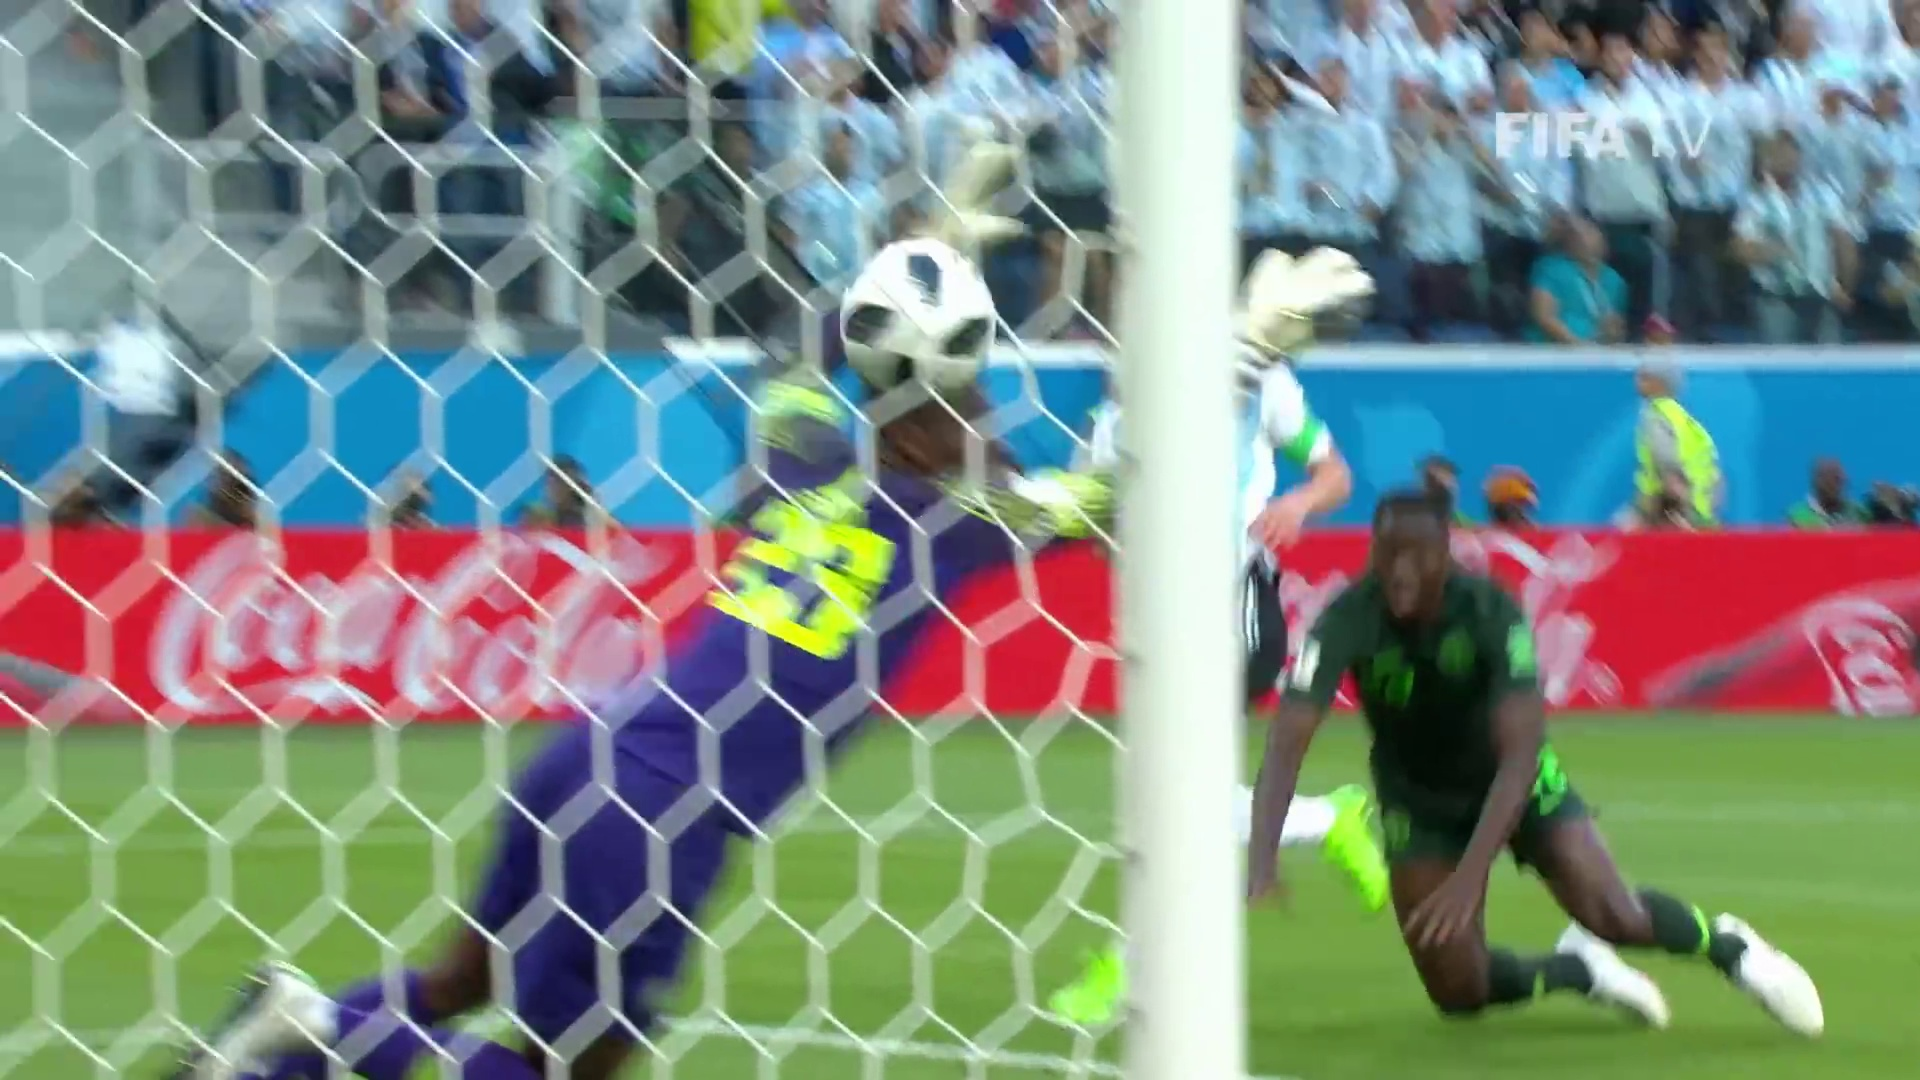ball: (844, 239, 981, 402)
person: (171, 449, 1114, 1080), (1250, 484, 1826, 1041)
